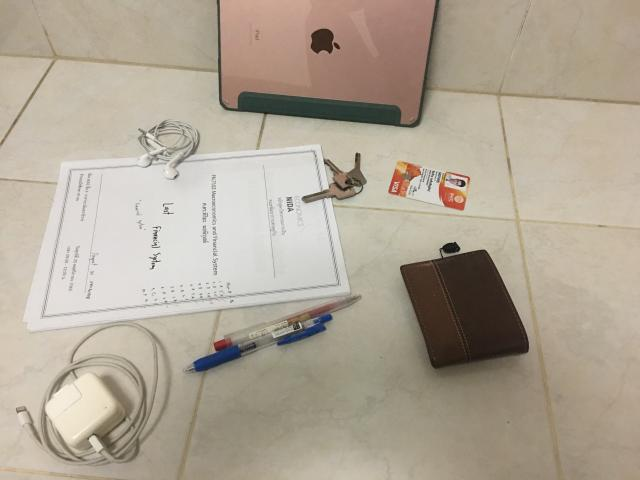Keys: (302, 152, 366, 202)
Pen: (184, 295, 361, 374)
Wallet: (400, 250, 529, 369)
paper: (24, 145, 350, 331)
wire: (16, 321, 159, 465), (138, 120, 200, 179)
